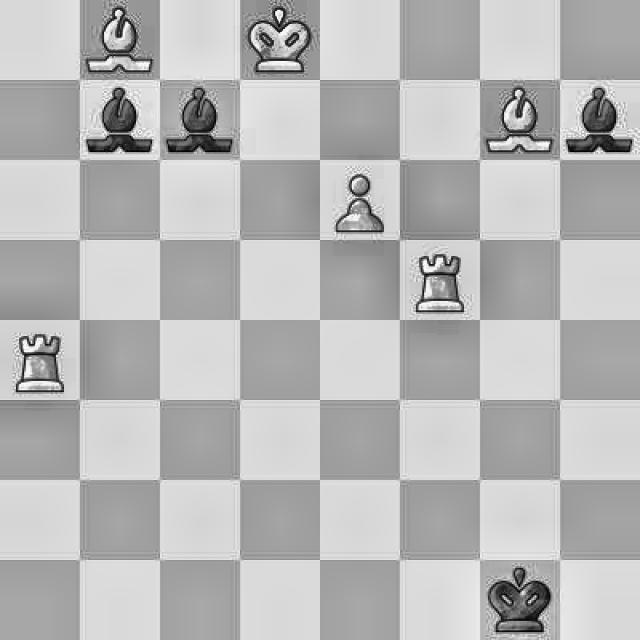black bishop: (569, 85, 638, 158), (88, 85, 156, 156), (168, 86, 236, 156)
black king: (486, 569, 555, 636)
white bishop: (486, 81, 558, 157), (84, 3, 152, 74)
white king: (244, 4, 310, 76)
white pawn: (327, 165, 394, 237)
white rook: (2, 328, 76, 396), (410, 246, 470, 316)
